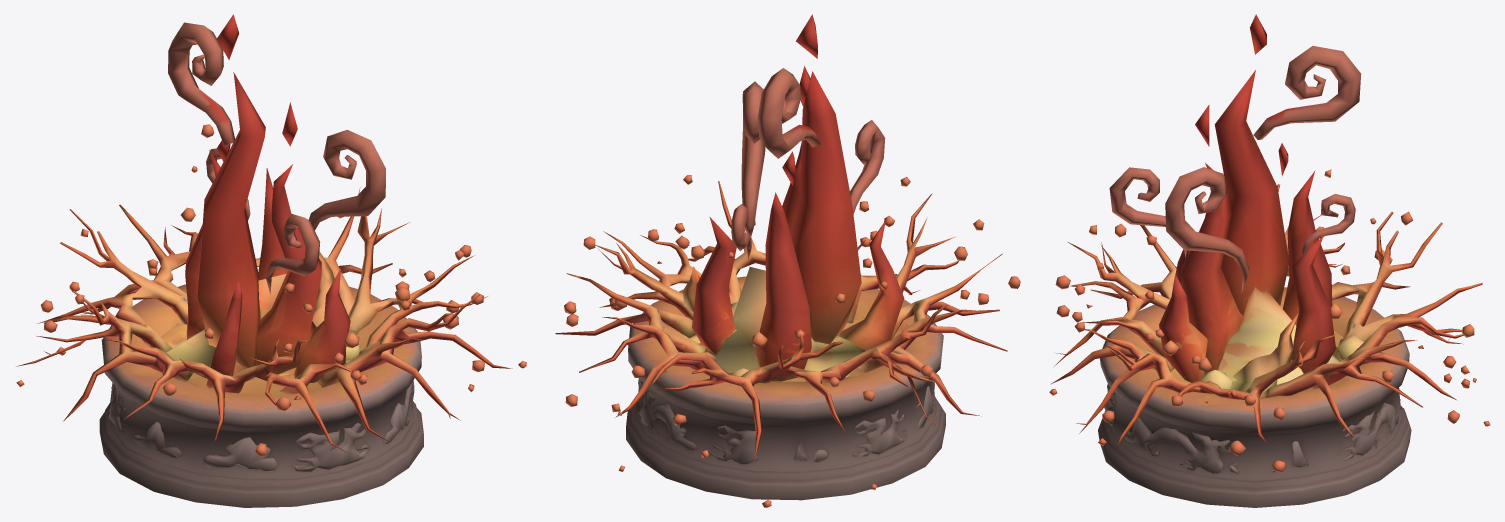
The model's file is fire_restrain_t3.glb.
The picture shows the model from 3 angles, left to right: view 1: azimuth 30°, elevation 25°; view 2: azimuth 150°, elevation 25°; view 3: azimuth 270°, elevation 25°; orthographic projection. The views are drawn at different scales.
Parts seen in each view (by area): view 1: tripo_node_d0a09359-5087-471a-a8e0-01a2c3709b9f; view 2: tripo_node_d0a09359-5087-471a-a8e0-01a2c3709b9f; view 3: tripo_node_d0a09359-5087-471a-a8e0-01a2c3709b9f.
Part boxes in pixels (left/top/right/bottom): tripo_node_d0a09359-5087-471a-a8e0-01a2c3709b9f: left=16, top=14, right=526, bottom=507; tripo_node_d0a09359-5087-471a-a8e0-01a2c3709b9f: left=555, top=14, right=1020, bottom=507; tripo_node_d0a09359-5087-471a-a8e0-01a2c3709b9f: left=1049, top=14, right=1490, bottom=507.
Size of the model in its own units: 0.9902 by 0.998 by 0.959.
Materials: 1 (1 with a texture image).
